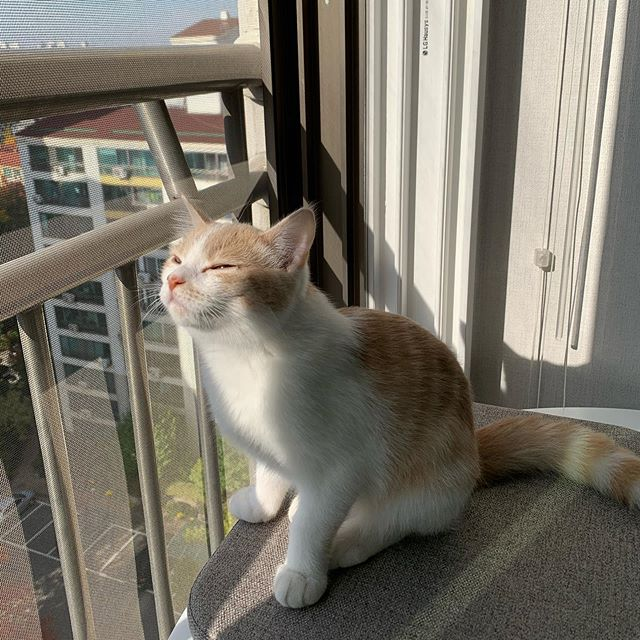cat: (148, 188, 323, 363)
